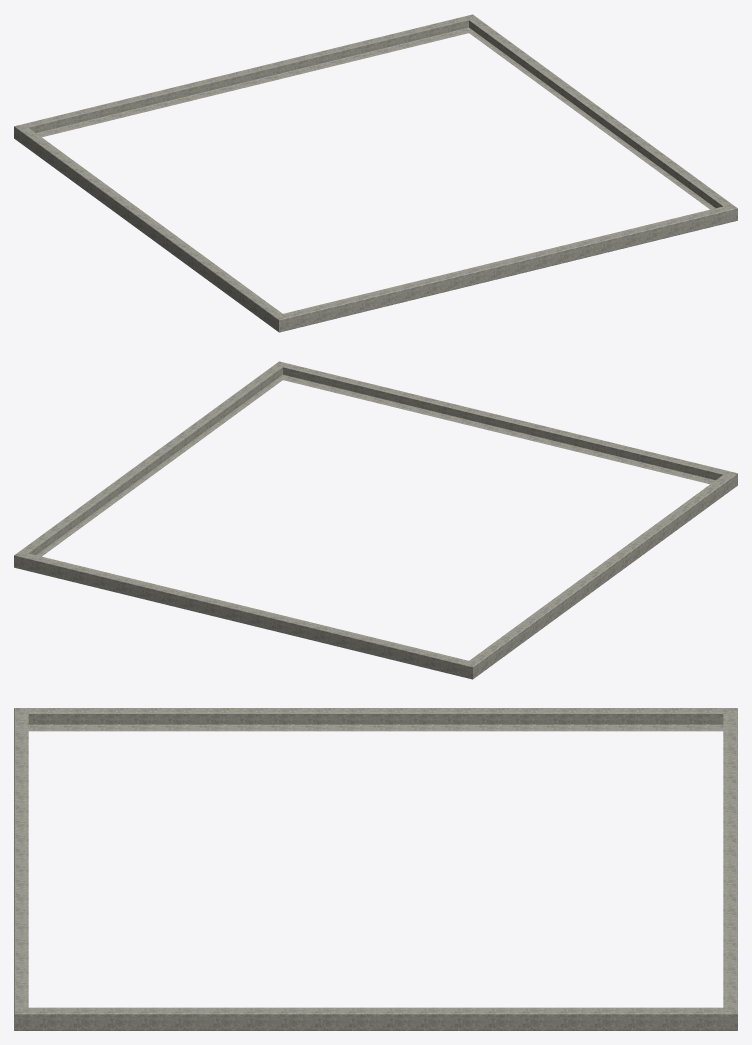
The model's file is CT_Building_Trim_011.fbx.
3 views of the same model, one above another, from view 1: azimuth 30°, elevation 25°; view 2: azimuth 150°, elevation 25°; view 3: azimuth 270°, elevation 25° (orthographic). The views are drawn at different scales.
Parts seen in each view (by area): view 1: CT_Building_Trim_011; view 2: CT_Building_Trim_011; view 3: CT_Building_Trim_011.
Boxes of the visible parts, x1,y1,x2,y2 form: CT_Building_Trim_011: (14,14,737,332); CT_Building_Trim_011: (14,361,737,679); CT_Building_Trim_011: (14,708,737,1030).
Bounding box in the file's own units: 1067 × 28.46 × 1067.
